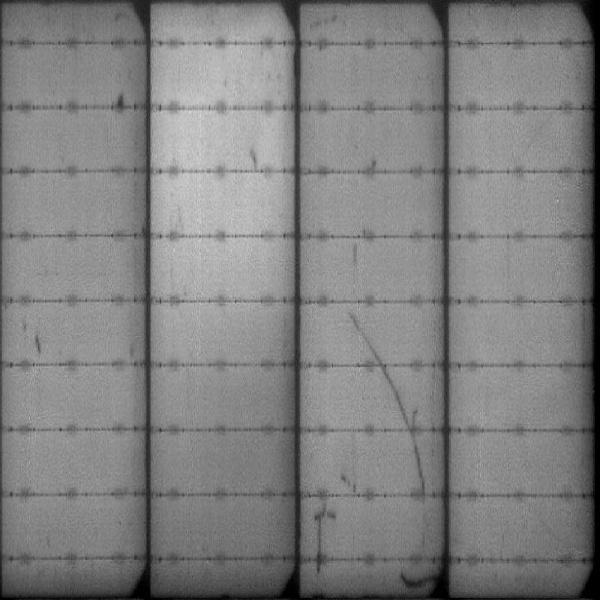scratch: (381, 367, 420, 426), (347, 309, 385, 360), (404, 429, 435, 491), (14, 315, 49, 356), (397, 563, 435, 591), (311, 499, 324, 578)
